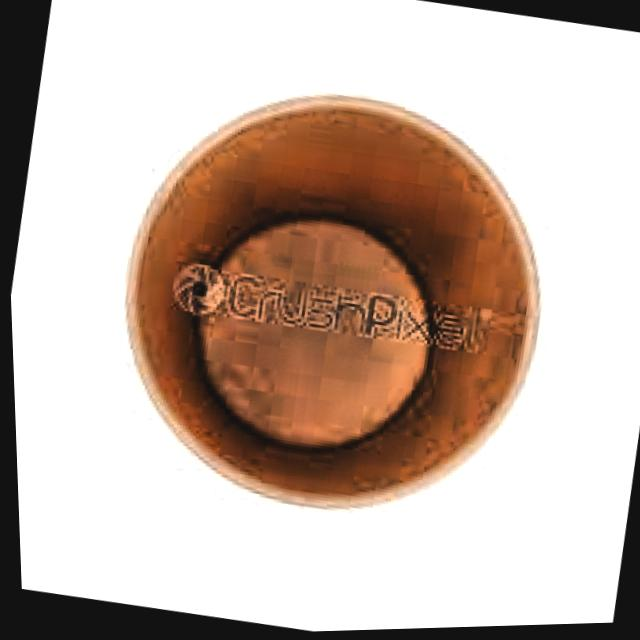Cup: (58, 45, 584, 559)
